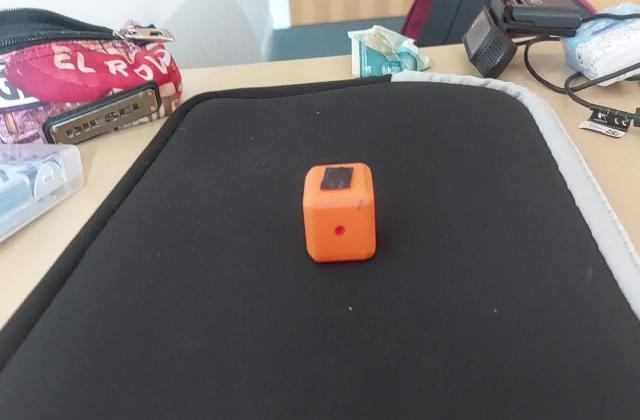black: (316, 164, 360, 192)
cube: (302, 160, 381, 264)
